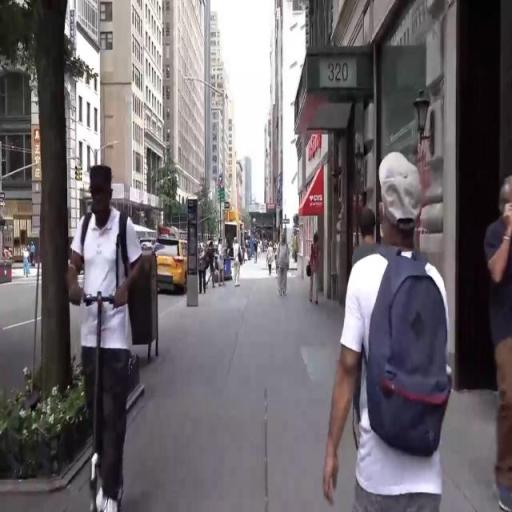person: (344, 161, 452, 512), (57, 138, 157, 512), (483, 161, 512, 512), (354, 193, 380, 284), (309, 223, 326, 321), (276, 238, 298, 307), (231, 236, 249, 296), (199, 241, 210, 295), (218, 241, 230, 290), (209, 242, 219, 295), (265, 240, 276, 281), (254, 235, 261, 273)
